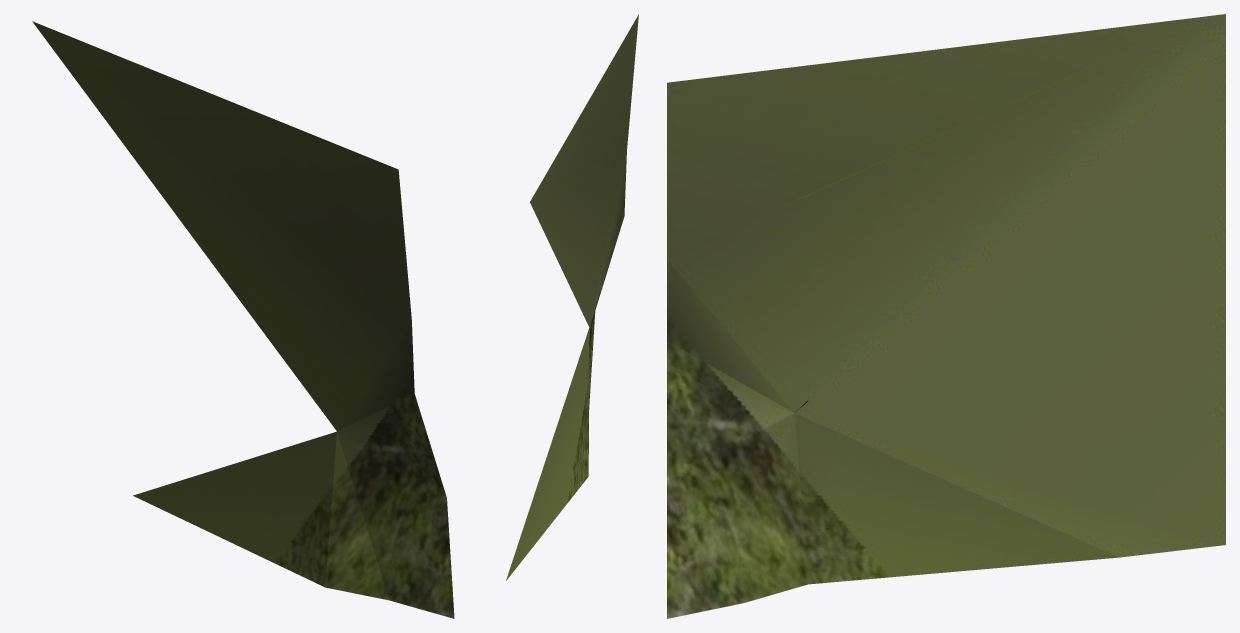
3 renders of one model, left to right at view 1: azimuth 30°, elevation 25°; view 2: azimuth 150°, elevation 25°; view 3: azimuth 270°, elevation 25°, orthographic. The views are drawn at different scales.
Bounding box in the file's own units: 1.23 × 2.95 × 2.95.
Materials: 3 (3 with a texture image).
